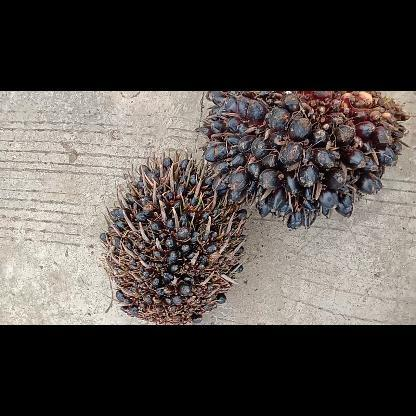TBS mentah: (195, 91, 414, 231), (98, 152, 250, 324)
